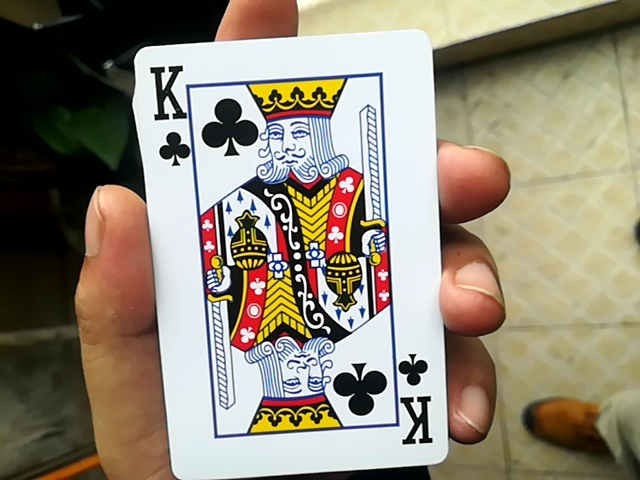mh k: (115, 36, 454, 477)
